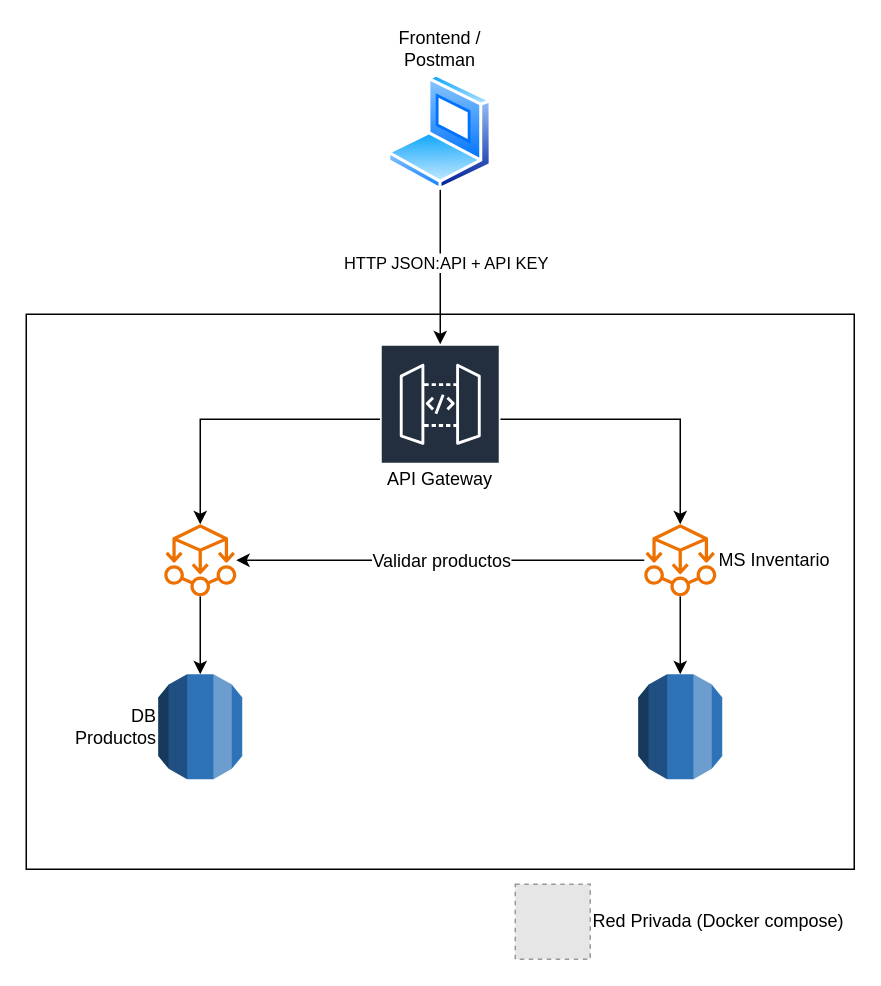
This 881x986 diagram has some shape labels left out. Grey dashed boxes stand in for pictures. The shapes that lost their labels are listed below. From the top down, each one's box as (x1, y1, x2, y2) in pixels, then its label:
(164, 524, 236, 596): MS Productos
(637, 673, 722, 779): DB Inventarios + Historial
